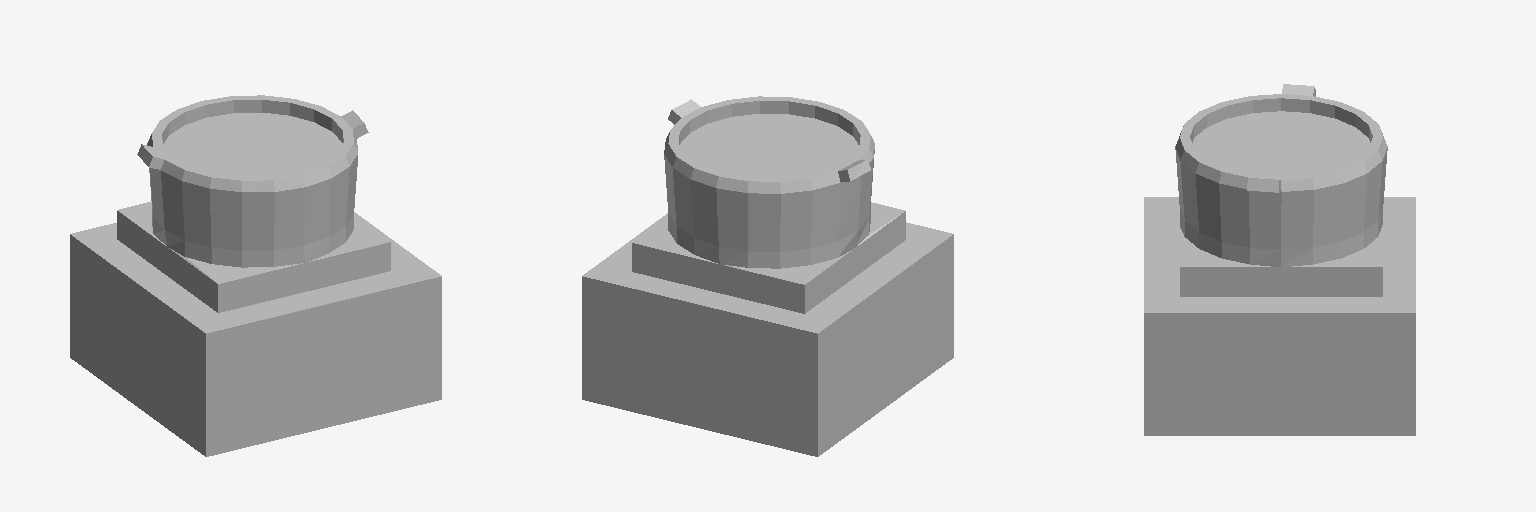
Rendered from WaterPot.obj.
3 renders of one model, left to right at view 1: azimuth 30°, elevation 25°; view 2: azimuth 150°, elevation 25°; view 3: azimuth 270°, elevation 25°, orthographic.
Visible parts, largest first — view 1: WaterPot:pasted__pasted__pCylinder2pasted__group5group7; view 2: WaterPot:pasted__pasted__pCylinder2pasted__group5group7; view 3: WaterPot:pasted__pasted__pCylinder2pasted__group5group7.
Boxes of the visible parts, x1=… form: WaterPot:pasted__pasted__pCylinder2pasted__group5group7: x1=70, y1=95, x2=441, y2=456; WaterPot:pasted__pasted__pCylinder2pasted__group5group7: x1=582, y1=96, x2=953, y2=456; WaterPot:pasted__pasted__pCylinder2pasted__group5group7: x1=1144, y1=84, x2=1415, y2=435.
Bounding box in the file's own units: 1 × 0.9923 × 1.